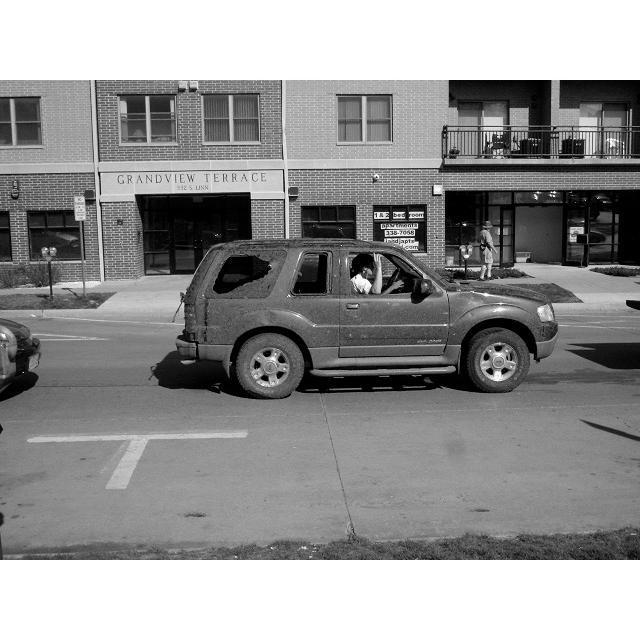fender-dent: (448, 292, 538, 338)
